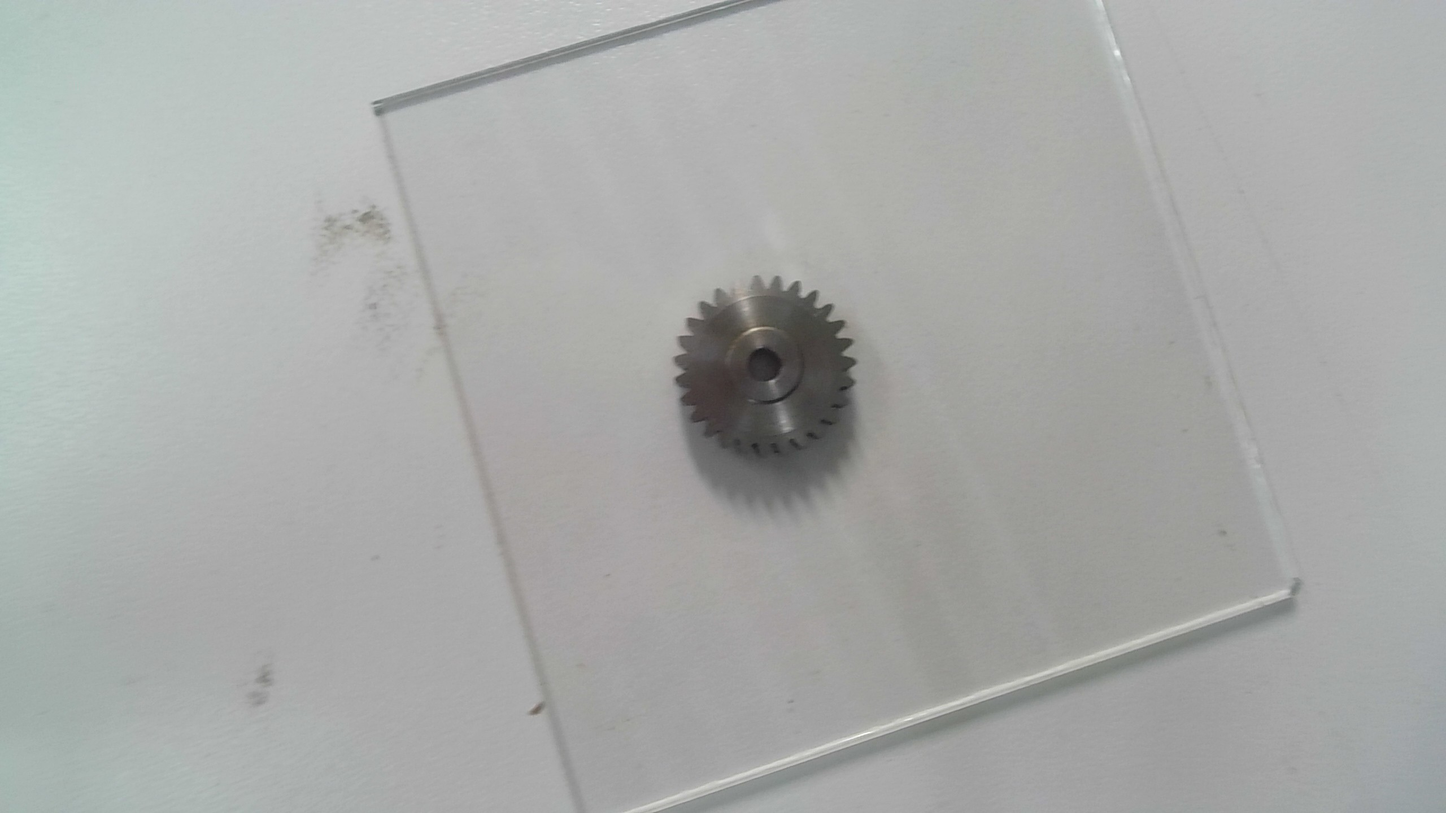gear: (673, 274, 857, 460)
